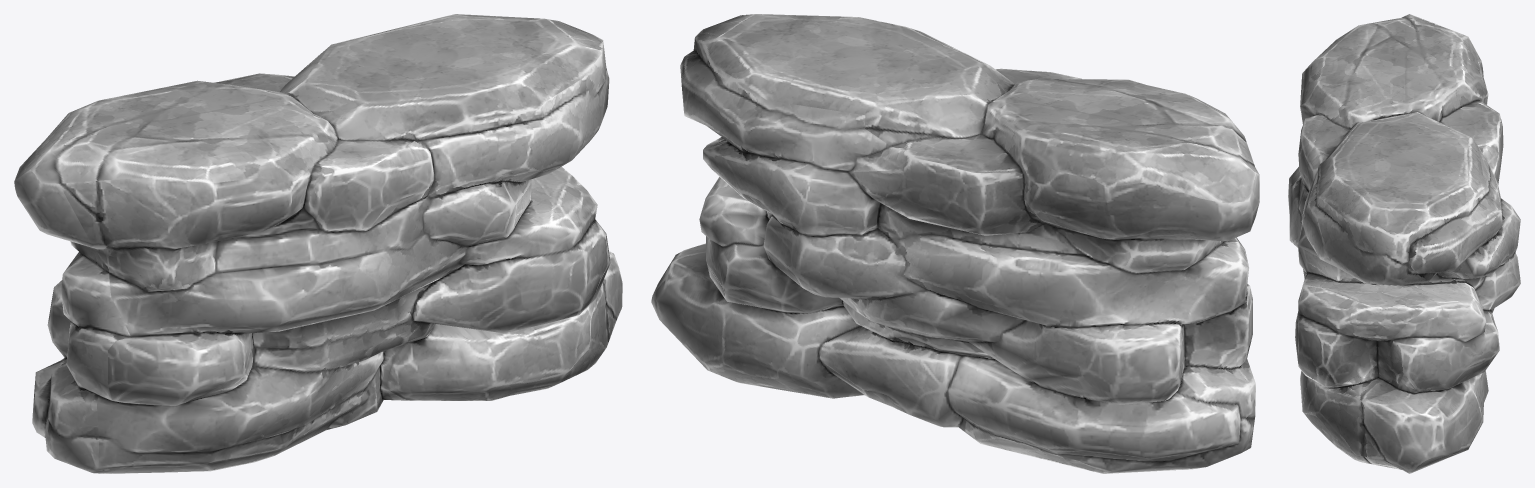
File: SM_Galets_01.fbx
3 renders of one model, left to right at view 1: azimuth 30°, elevation 25°; view 2: azimuth 150°, elevation 25°; view 3: azimuth 270°, elevation 25°, orthographic. The views are drawn at different scales.
Visible parts, largest first — view 1: SM_GaletsWall_01; view 2: SM_GaletsWall_01; view 3: SM_GaletsWall_01.
Part boxes in pixels (x1,y1,x2,y2): SM_GaletsWall_01: (14,14,622,473); SM_GaletsWall_01: (651,14,1259,473); SM_GaletsWall_01: (1288,14,1520,473).
Size of the model in its own units: 395 by 205 by 167.
